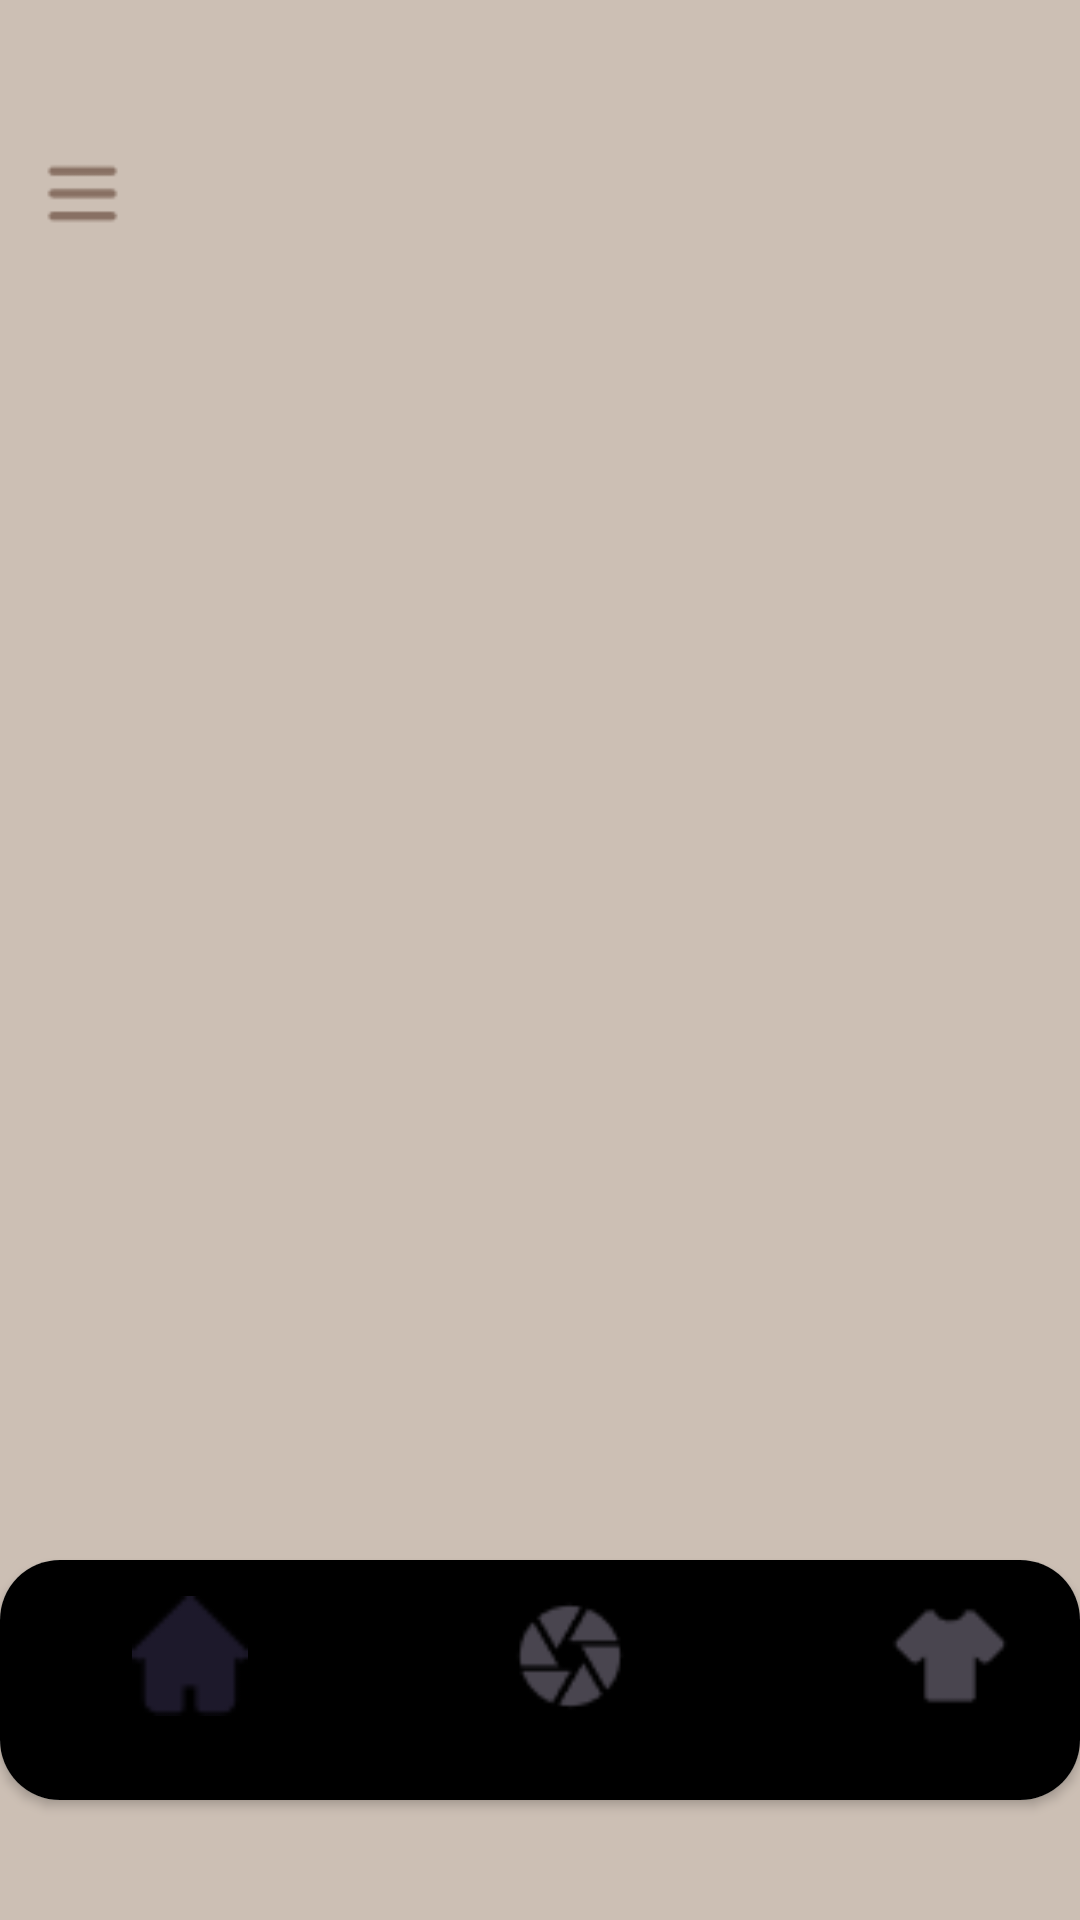

Icons on this 1080w x 1920h Android screen, each with its box as (x1, y1, x2, y2):
bar: (48, 166, 117, 221)
